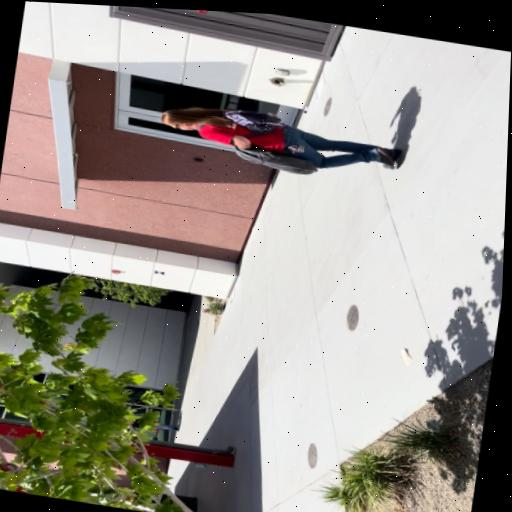target2: (155, 270, 164, 275)
